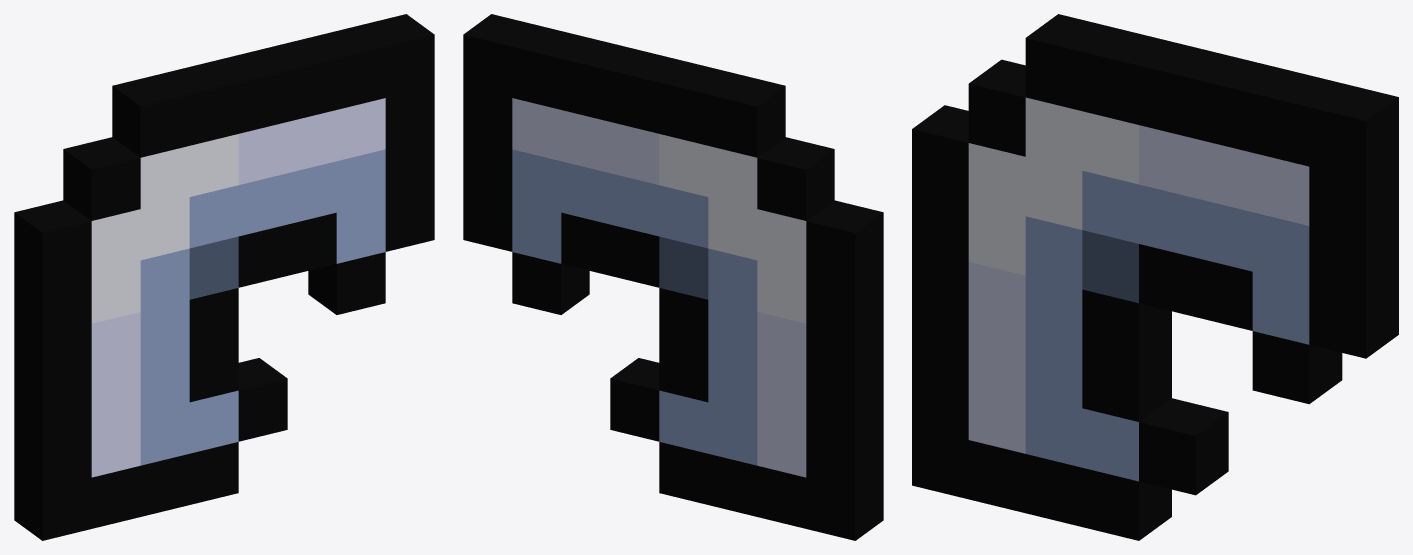
File: Moonstone Boomerang.glb
3 views of the same model, side by side, from view 1: azimuth 30°, elevation 25°; view 2: azimuth 150°, elevation 25°; view 3: azimuth 330°, elevation 25° (orthographic). The views are drawn at different scales.
Parts seen in each view (by area): view 1: generated(Clone); view 2: generated(Clone); view 3: generated(Clone).
Boxes of the visible parts, x1=… form: generated(Clone): x1=14, y1=14, x2=434, y2=540; generated(Clone): x1=463, y1=14, x2=883, y2=540; generated(Clone): x1=912, y1=14, x2=1398, y2=540.
Bounding box in the file's own units: 8 × 8 × 1.
Materials: 1 (1 with a texture image).
